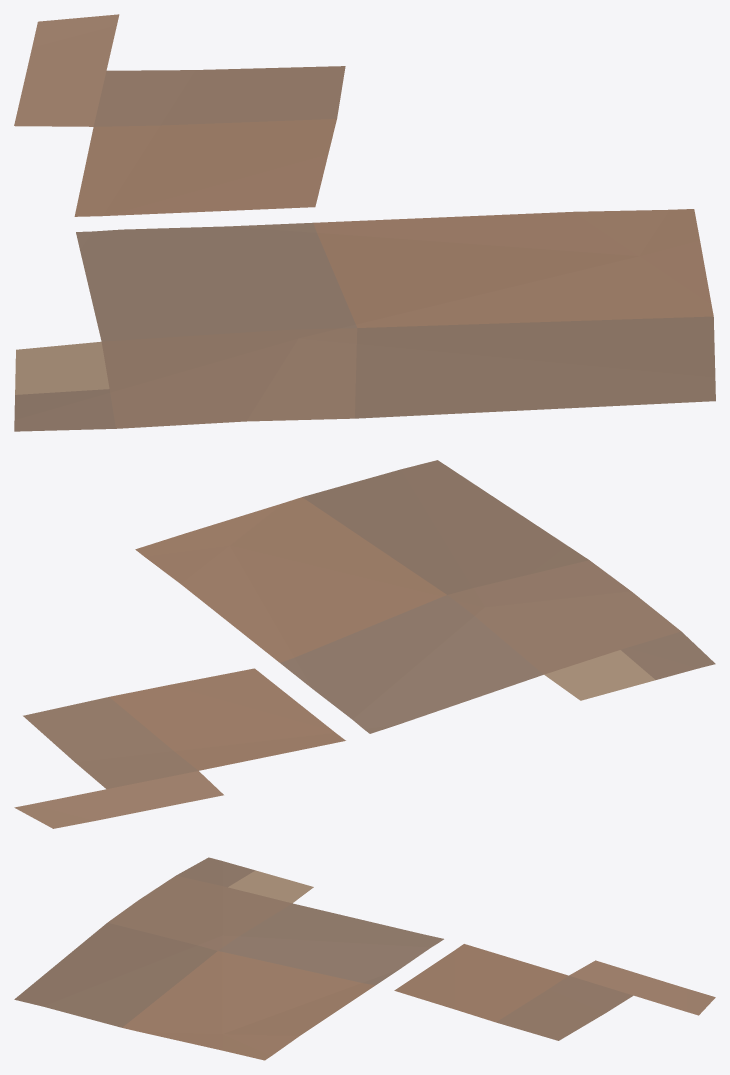
The model's file is farm_10_17_soil.glb.
3 views of the same model, one above another, from view 1: azimuth 30°, elevation 25°; view 2: azimuth 150°, elevation 25°; view 3: azimuth 270°, elevation 25° (orthographic). The views are drawn at different scales.
Visible parts, largest first — view 1: geometry_0; view 2: geometry_0; view 3: geometry_0.
Part boxes in pixels (x1,y1,x2,y2): geometry_0: (14, 14, 715, 431); geometry_0: (14, 460, 715, 828); geometry_0: (14, 857, 715, 1060).
Bounding box in the file's own units: 171 × 8.16 × 242.
